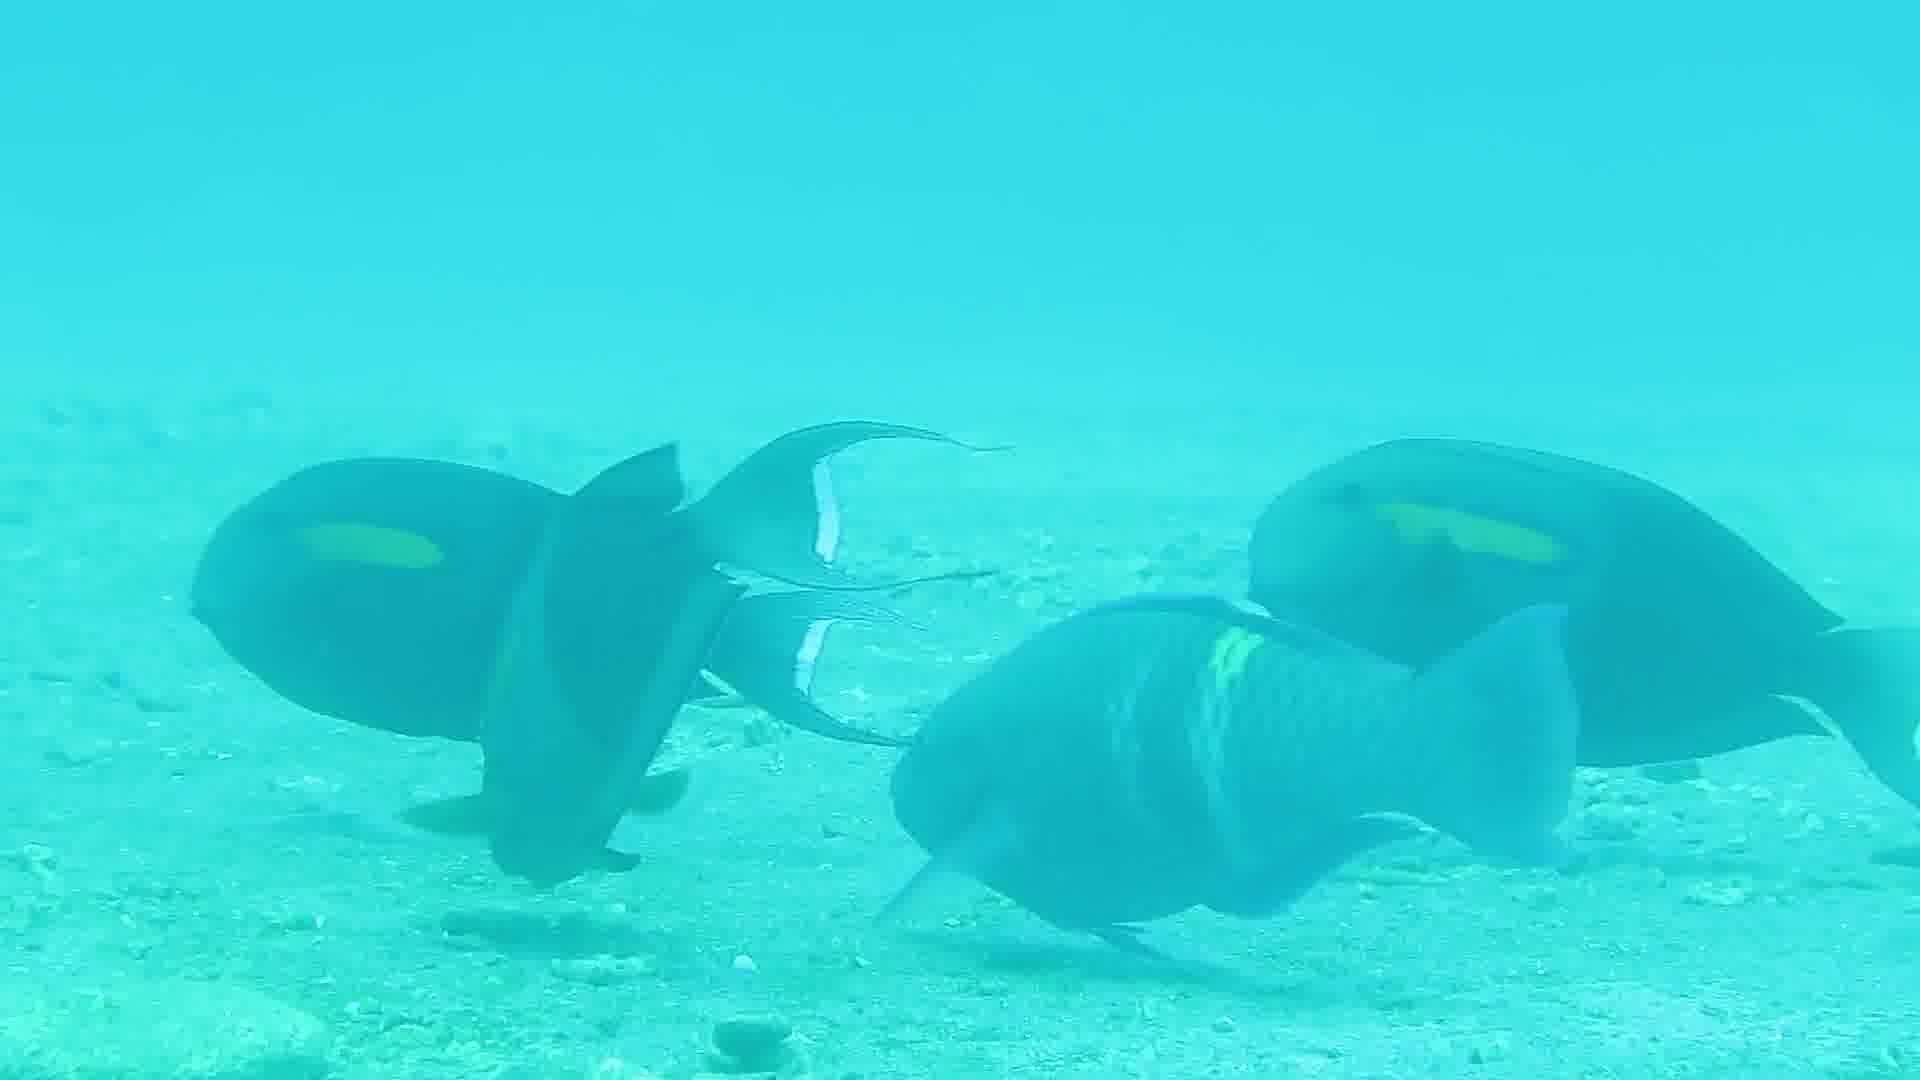Acanthurus olivaceus: (1240, 396, 1920, 814), (886, 551, 1567, 969), (199, 404, 880, 822)
